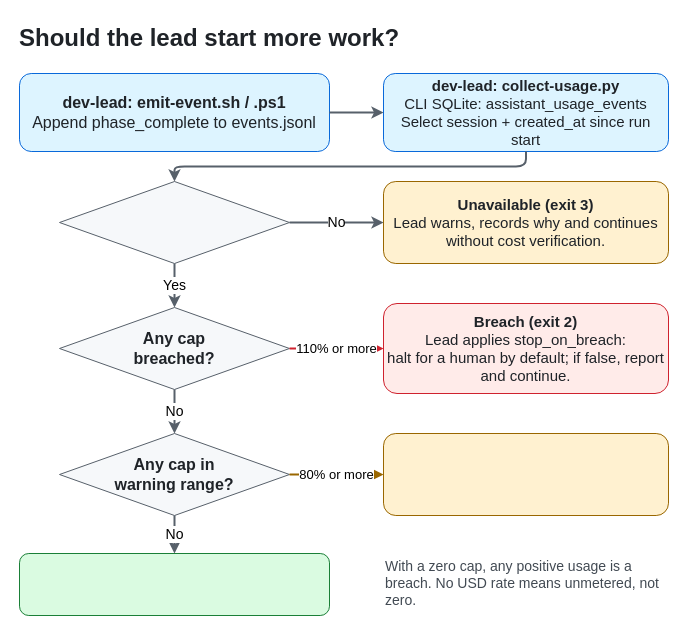
The diagram is 686 pixels wide and 634 high, and some of its shapes have lost their labels. Here are the shapes that lost their labels. From the top down, the box of each, then its label:
(58, 180, 290, 264): Usable measurement?
(382, 432, 668, 516): Warning (exit 0) Report actual usage and the cap. Continue.
(18, 552, 330, 616): Within budget (exit 0) Record measured usage and continue.
